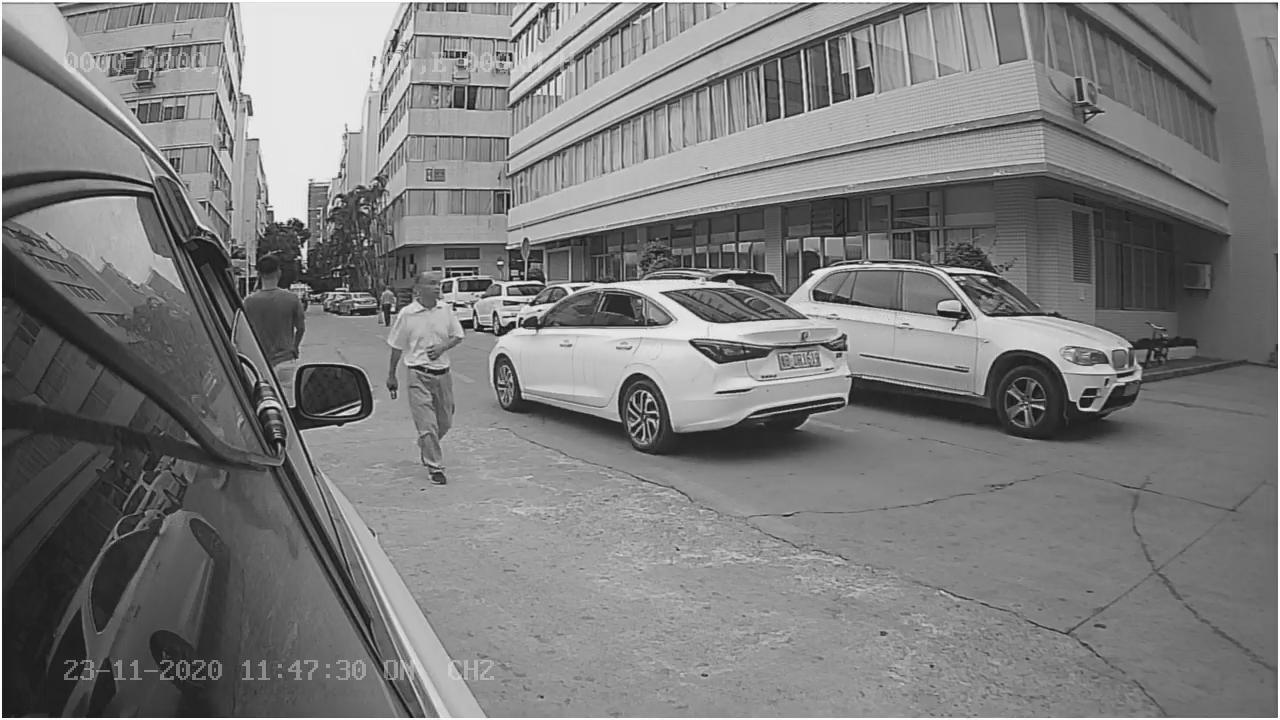person: (382, 260, 467, 487)
